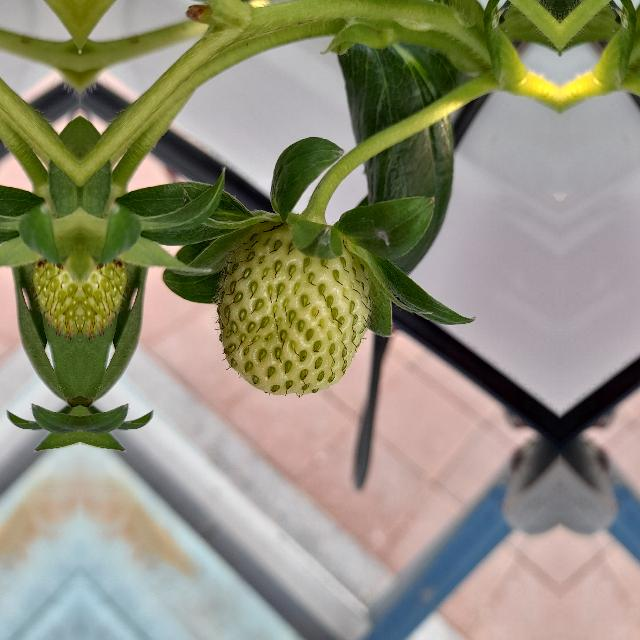Health_25: (210, 221, 374, 397)
